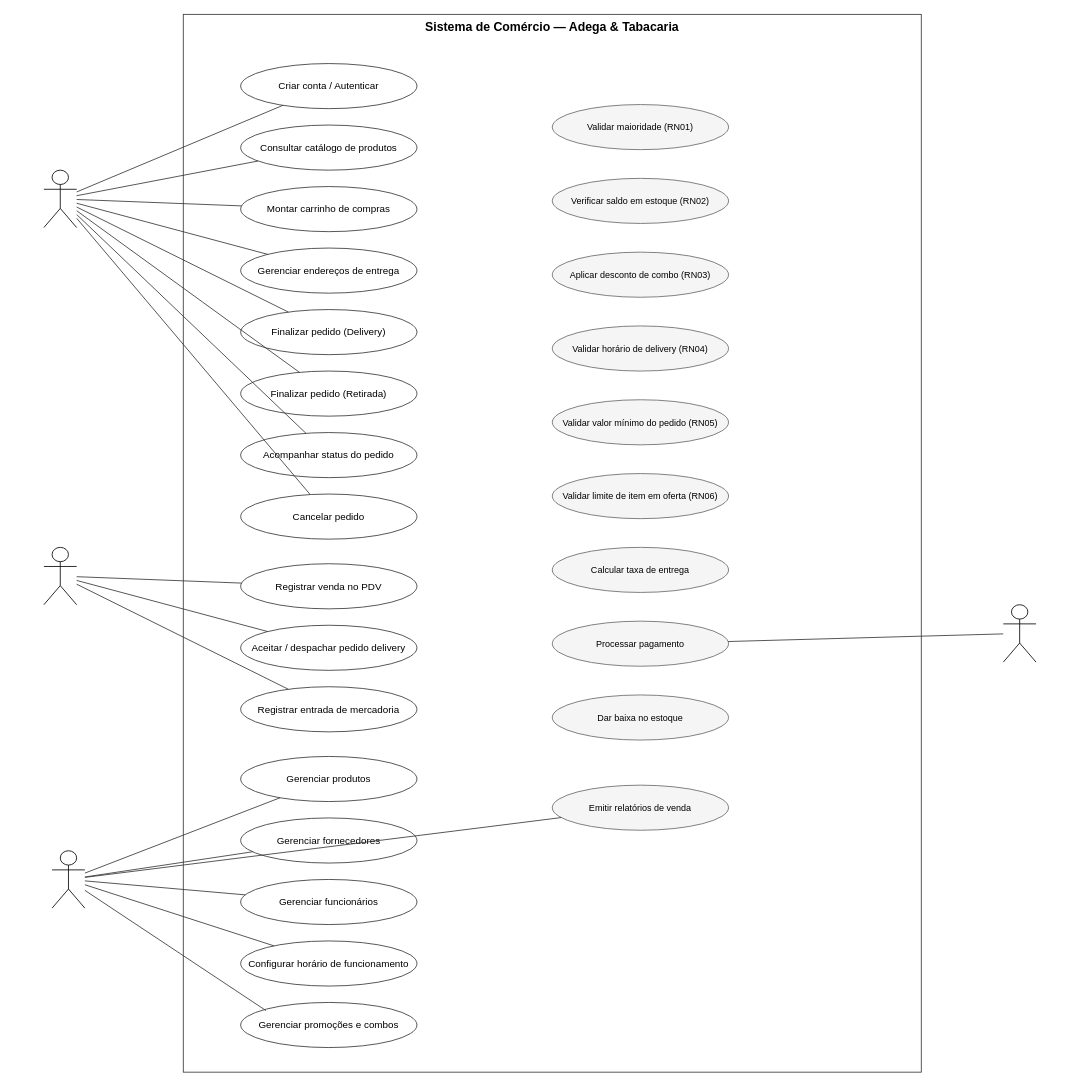
Some shapes in this 1091 by 1087 pixel diagram are drawn without their labels. Each missing label, with the box of its shape:
Cliente: (43, 169, 77, 228)
Dono (Administrador): (51, 850, 85, 908)
Funcionário (Caixa): (43, 547, 77, 605)
Gateway de Pagamento: (1002, 604, 1036, 662)
